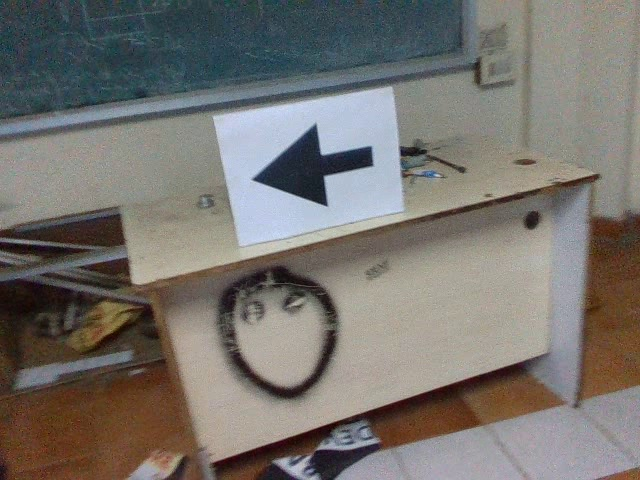Left: (245, 120, 376, 208)
